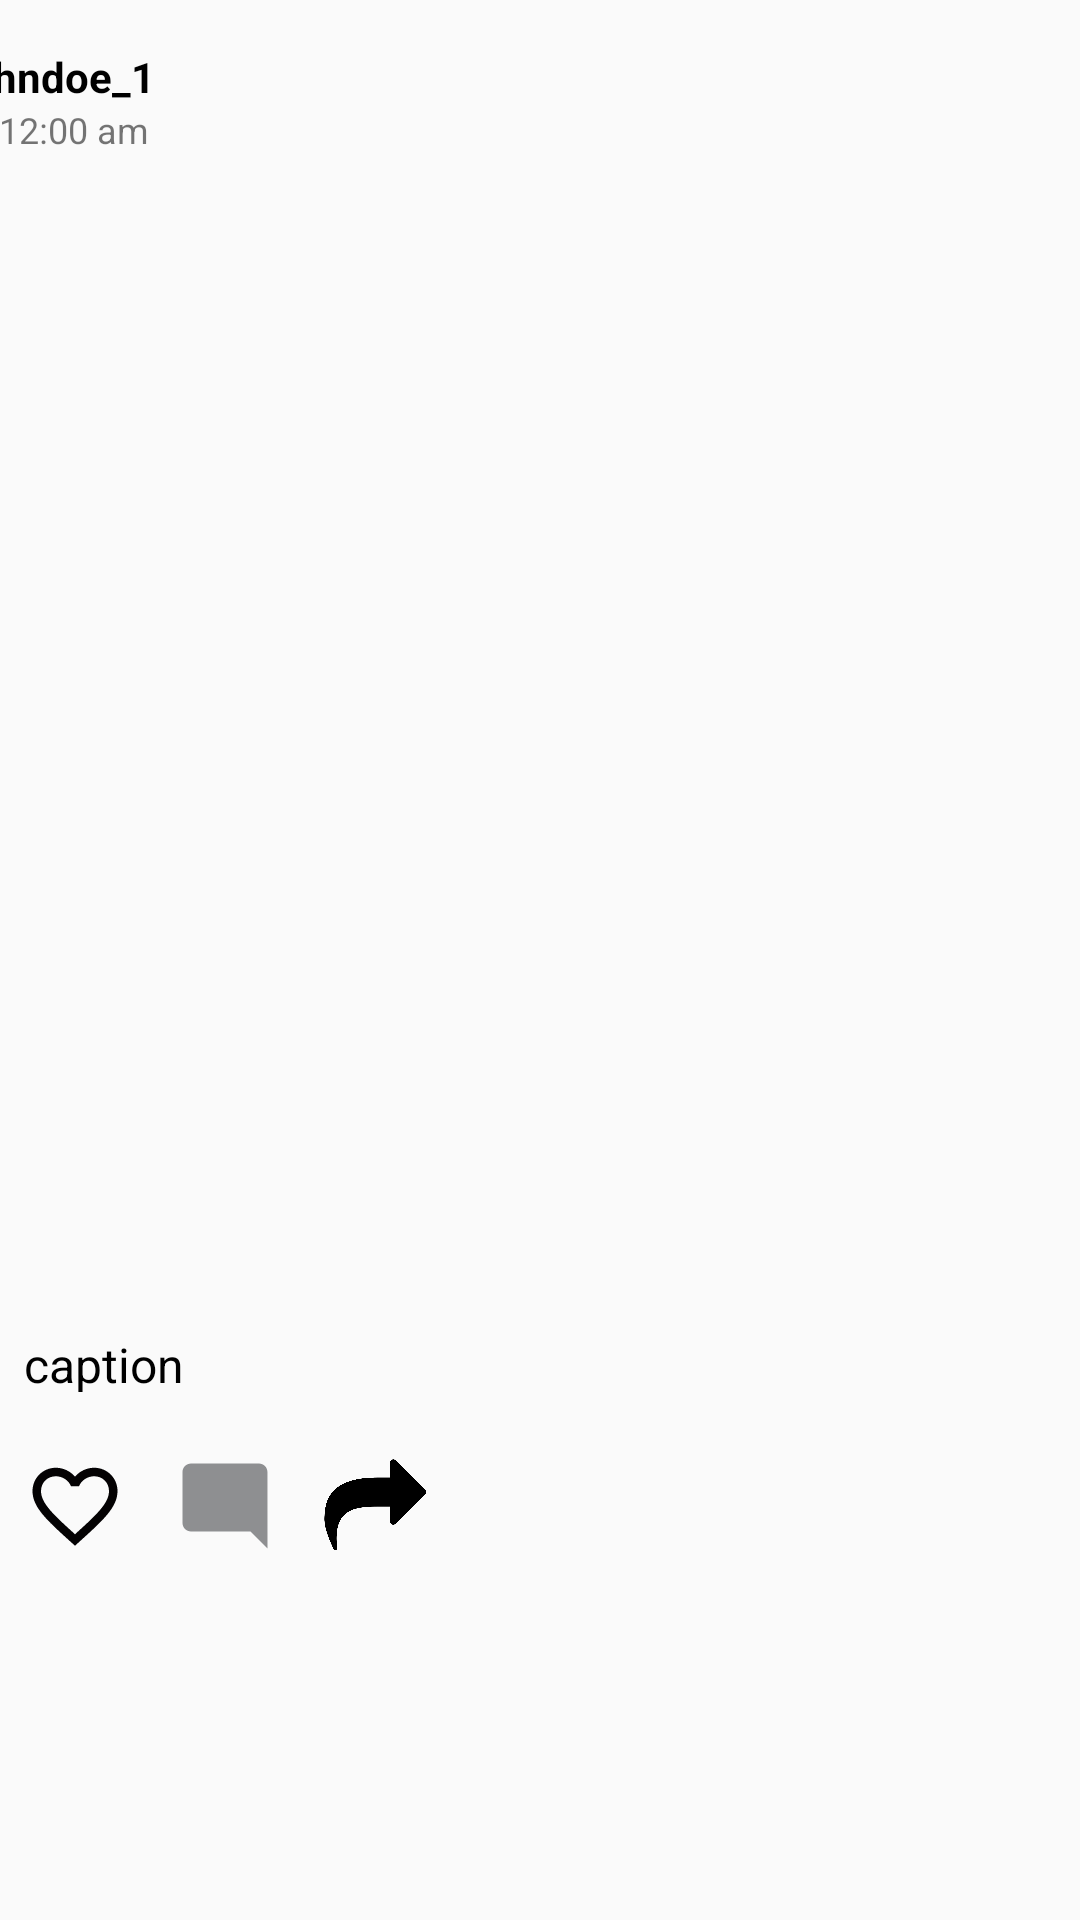

Icon bounding boxes for this 1080 x 1920 phone screenshot, format (x1, y1, x2, y2):
comment: (182, 1463, 268, 1548)
like: (32, 1467, 118, 1546)
share: (324, 1459, 426, 1550)
